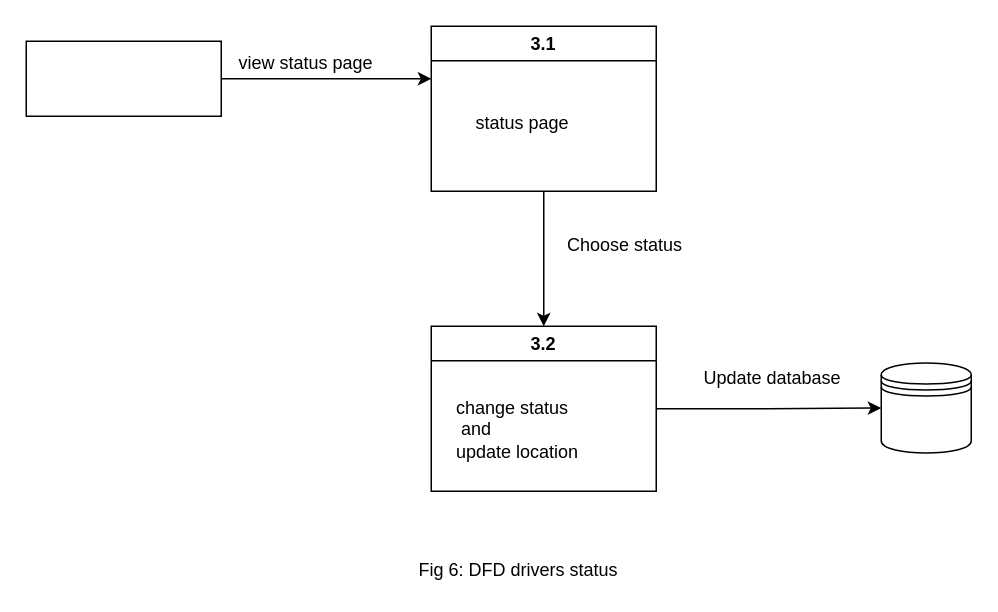
This 998x612 diagram has some shape labels left out. The centre of each missing label's shape, as x and y in pixels:
"drivers" belongs at (x=123, y=78).
"taxis" belongs at (x=925, y=407).
